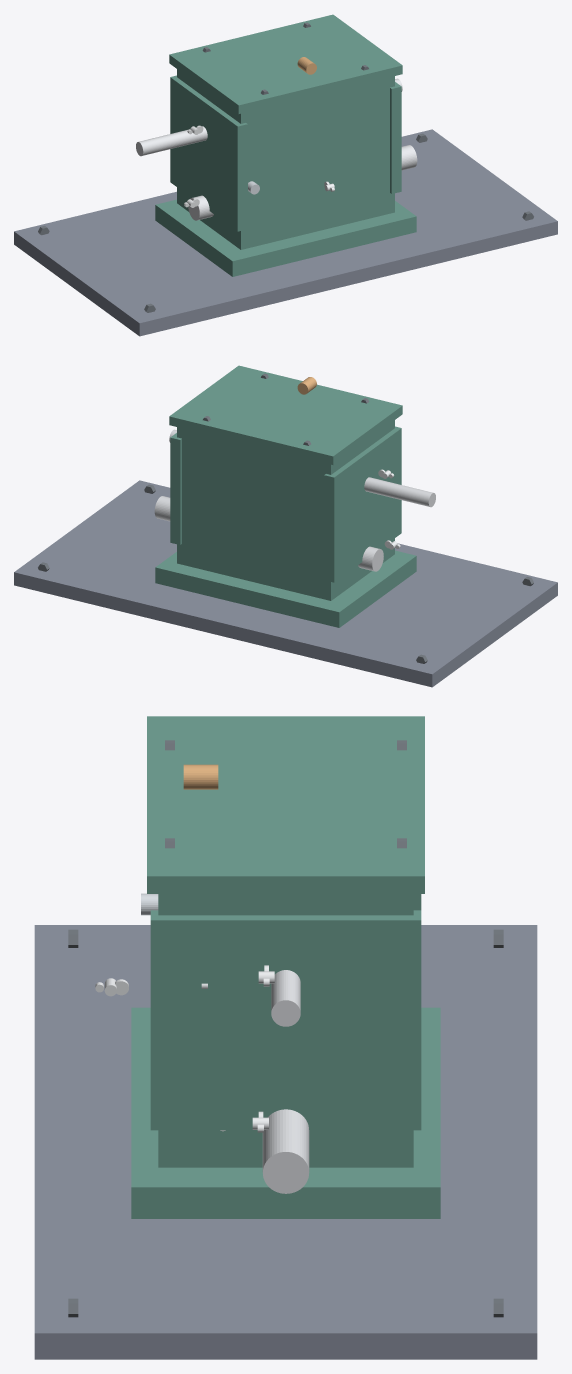
The model's file is gearbox.glb.
3 views of the same model, one above another, from view 1: azimuth 30°, elevation 25°; view 2: azimuth 150°, elevation 25°; view 3: azimuth 270°, elevation 25° (orthographic). The views are drawn at different scales.
Visible parts, largest first — view 1: PART_001, CASING_HOUSING_006, CASING_SPLITLINE_007, CASING_HOUSING_009, CASING_FOOT_008, CASING_HOUSING_010, PART_017, PART_018; view 2: PART_001, CASING_HOUSING_006, CASING_SPLITLINE_007, CASING_HOUSING_009, CASING_FOOT_008, CASING_HOUSING_010, PART_017, PART_018; view 3: PART_001, CASING_HOUSING_010, CASING_SPLITLINE_007, CASING_FOOT_008, CASING_HOUSING_006, PART_018, PART_017, PART_015.
Part boxes in pixels (<box>): PART_001: <box>14,129,557,336</box>; CASING_HOUSING_006: <box>177,69,394,249</box>; CASING_SPLITLINE_007: <box>169,14,402,113</box>; CASING_HOUSING_009: <box>170,75,247,231</box>; CASING_FOOT_008: <box>155,199,416,276</box>; CASING_HOUSING_010: <box>390,82,401,193</box>; PART_017: <box>136,78,402,156</box>; PART_018: <box>188,145,417,220</box>; PART_001: <box>14,480,557,687</box>; CASING_HOUSING_006: <box>177,420,394,600</box>; CASING_SPLITLINE_007: <box>169,365,402,464</box>; CASING_HOUSING_009: <box>324,426,401,582</box>; CASING_FOOT_008: <box>155,550,416,627</box>; CASING_HOUSING_010: <box>170,433,181,544</box>; PART_017: <box>169,429,435,507</box>; PART_018: <box>154,496,383,571</box>; PART_001: <box>34,925,537,1359</box>; CASING_HOUSING_010: <box>150,910,421,1130</box>; CASING_SPLITLINE_007: <box>147,716,424,893</box>; CASING_FOOT_008: <box>131,1007,440,1218</box>; CASING_HOUSING_006: <box>158,894,413,1167</box>; PART_018: <box>262,1109,309,1193</box>; PART_017: <box>271,970,300,1026</box>; PART_015: <box>183,764,218,789</box>.
Bounding box in the file's own units: 2.5 × 1.14 × 1.3.
